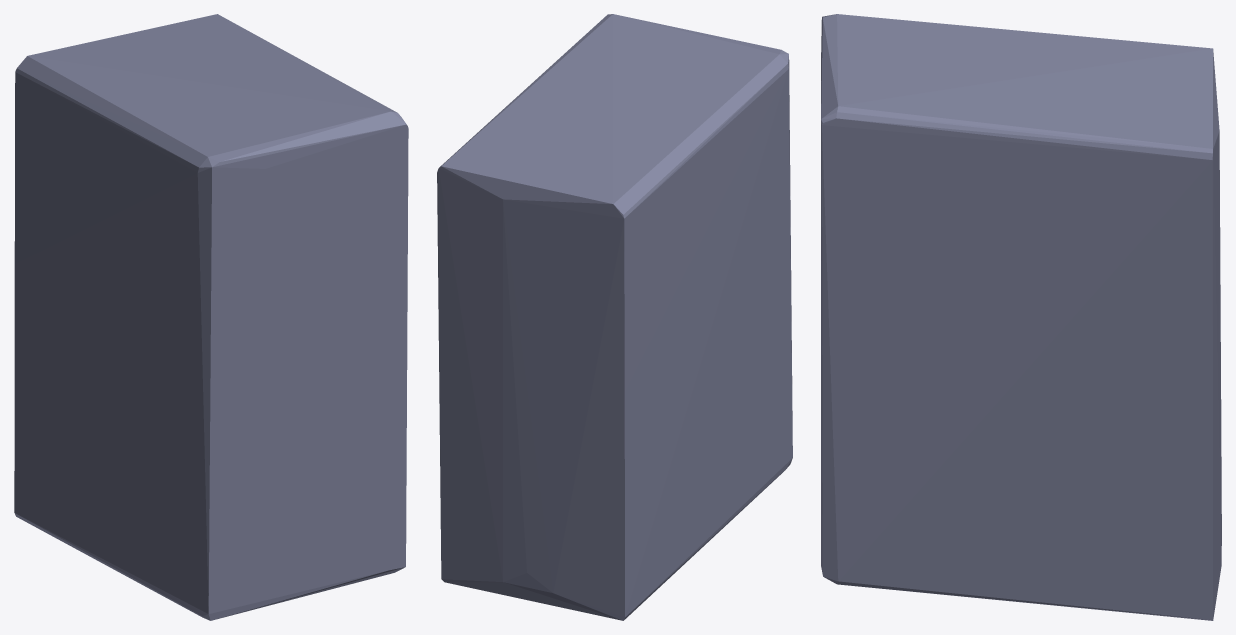
Rendered from tiltTruck_gray_a05.glb.
3 renders of one model, left to right at view 1: azimuth 30°, elevation 25°; view 2: azimuth 150°, elevation 25°; view 3: azimuth 270°, elevation 25°, orthographic. The views are drawn at different scales.
Parts seen in each view (by area): view 1: geometry_0; view 2: geometry_0; view 3: geometry_0.
Boxes of the visible parts, x1,y1,x2,y2 form: geometry_0: (14,14,408,620); geometry_0: (437,14,792,620); geometry_0: (821,14,1221,620).
Size of the model in its own units: 0.21 by 0.4787 by 0.3394.
